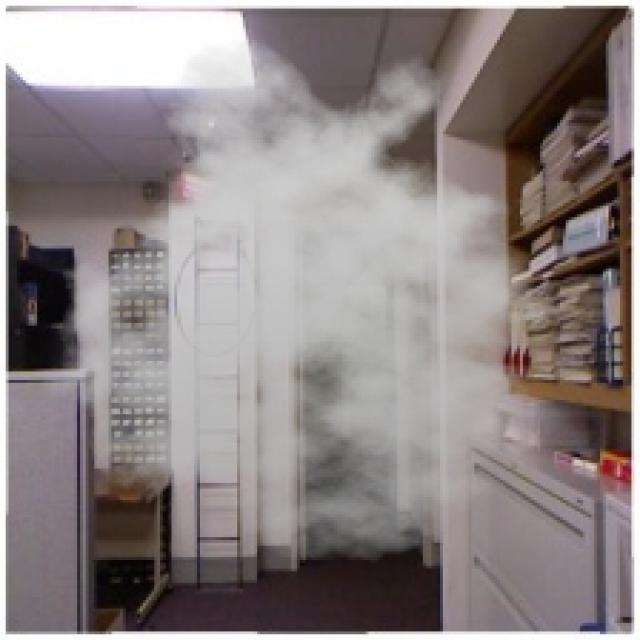Smoke: (28, 37, 594, 563)
